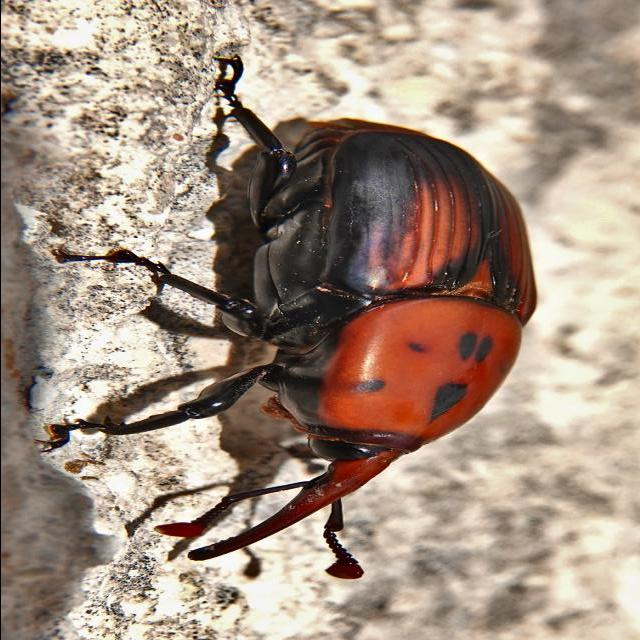Red-palm-weevil: (122, 67, 549, 570)
